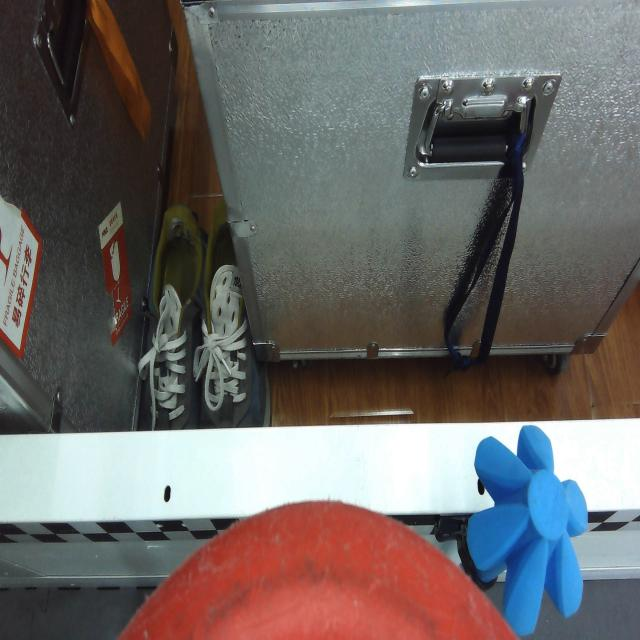zblue-Stake-Head: (467, 423, 588, 637)
